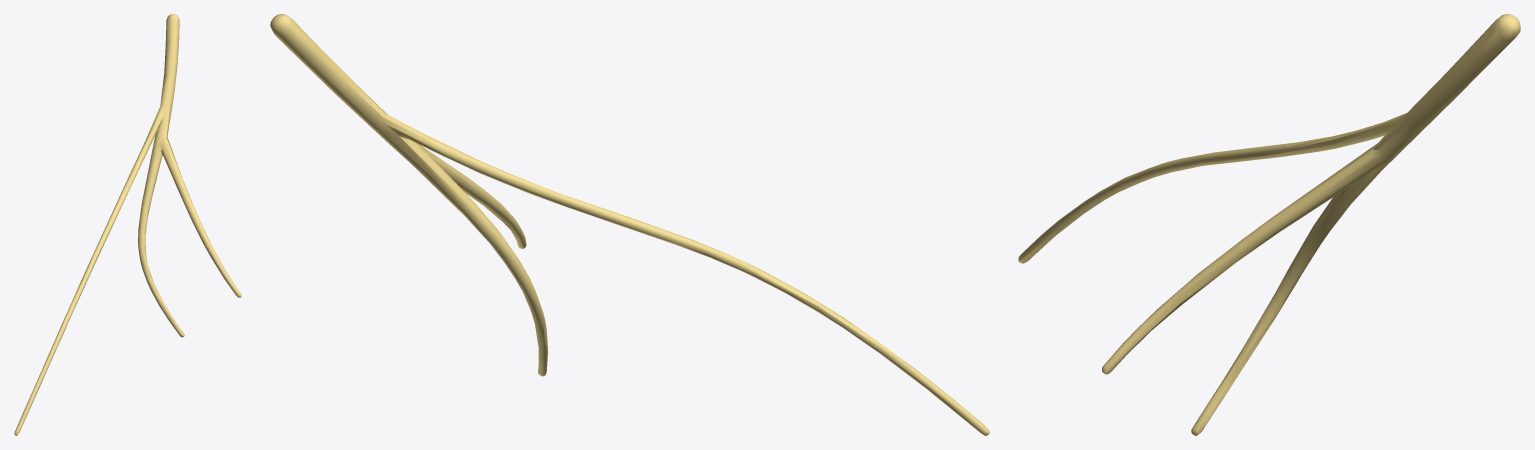
Rendered from fma53057_fj3994.glb.
3 views of the same model, side by side, from view 1: azimuth 30°, elevation 25°; view 2: azimuth 150°, elevation 25°; view 3: azimuth 270°, elevation 25° (orthographic). The views are drawn at different scales.
Visible parts, largest first — view 1: FMA53057_FJ3994; view 2: FMA53057_FJ3994; view 3: FMA53057_FJ3994.
Part boxes in pixels (x1,y1,x2,y2): FMA53057_FJ3994: [14, 14, 241, 435]; FMA53057_FJ3994: [270, 14, 989, 435]; FMA53057_FJ3994: [1018, 14, 1520, 435].
Bounding box in the file's own units: 0.0189 × 0.0165 × 0.0146.
